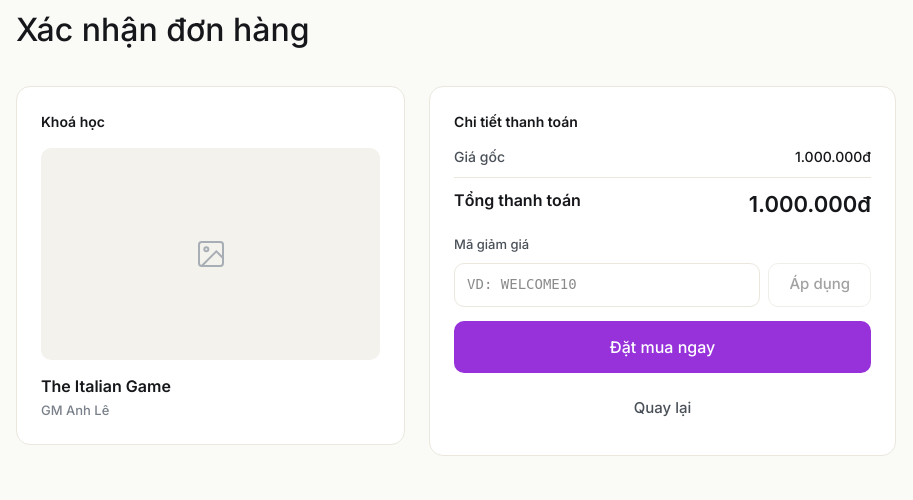
Test case: ConfirmPurchasePage › shows the Vietnamese error for voucher_inactive
Type "BADCODE" into the field with test id "voucher-input" at (607, 284), box [454,262,760,306]
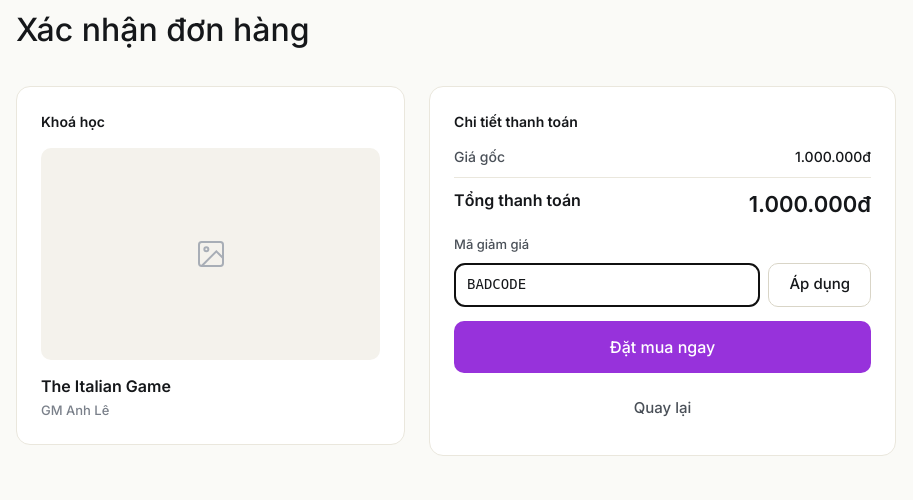
Click the button with test id "voucher-apply-btn" at (820, 284), box [768,262,871,306]
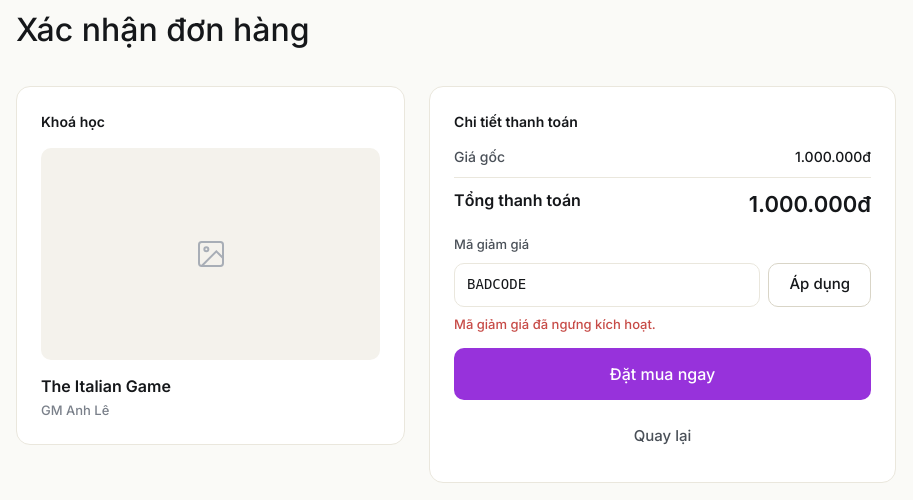
Expected: the text with test id "voucher-error" shows "ngưng kích hoạt", [454,316,656,332]
